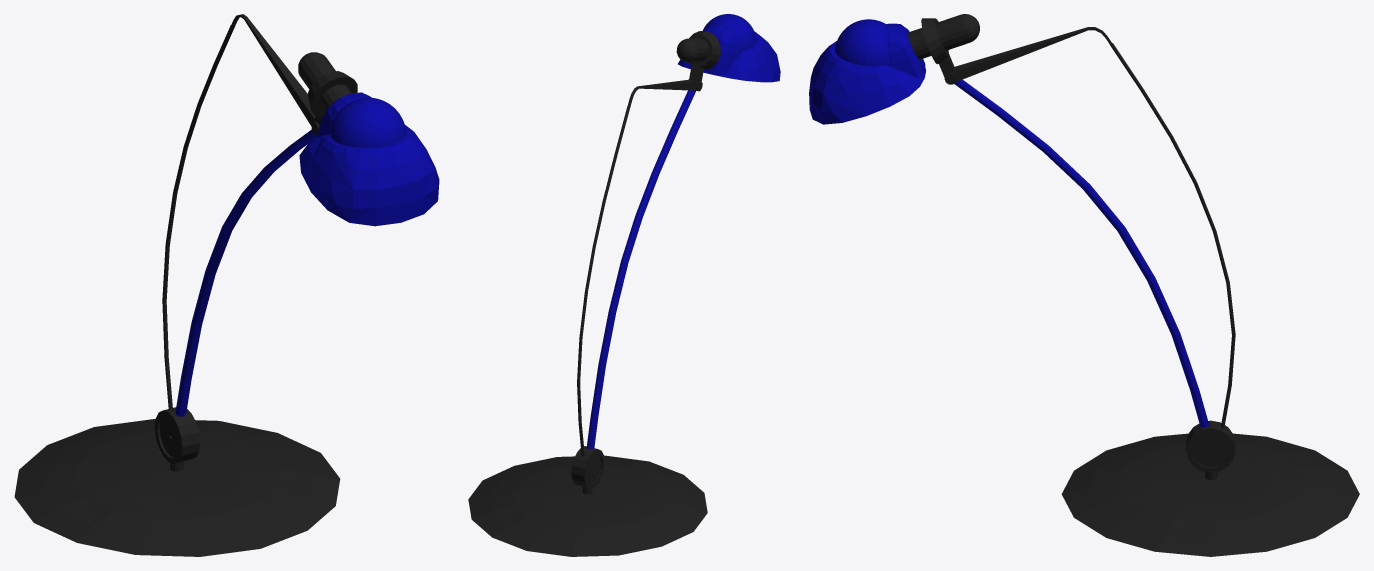
File: myroom_desk_lamp.obj
3 views of the same model, side by side, from view 1: azimuth 30°, elevation 25°; view 2: azimuth 150°, elevation 25°; view 3: azimuth 270°, elevation 25° (orthographic). The views are drawn at different scales.
Parts seen in each view (by area): view 1: jandrusOne_Plane.003, JandrusTwo_Sphere.001; view 2: jandrusOne_Plane.003, JandrusTwo_Sphere.001; view 3: jandrusOne_Plane.003, JandrusTwo_Sphere.001.
Part boxes in pixels (box(x1,y1,x2,y2)): jandrusOne_Plane.003: box(14, 25, 439, 556); JandrusTwo_Sphere.001: box(154, 14, 406, 471); jandrusOne_Plane.003: box(468, 25, 780, 556); JandrusTwo_Sphere.001: box(571, 14, 756, 494); jandrusOne_Plane.003: box(809, 23, 1359, 556); JandrusTwo_Sphere.001: box(835, 14, 1235, 479).
Size of the model in its own units: 2.28 by 4.06 by 4.24.
